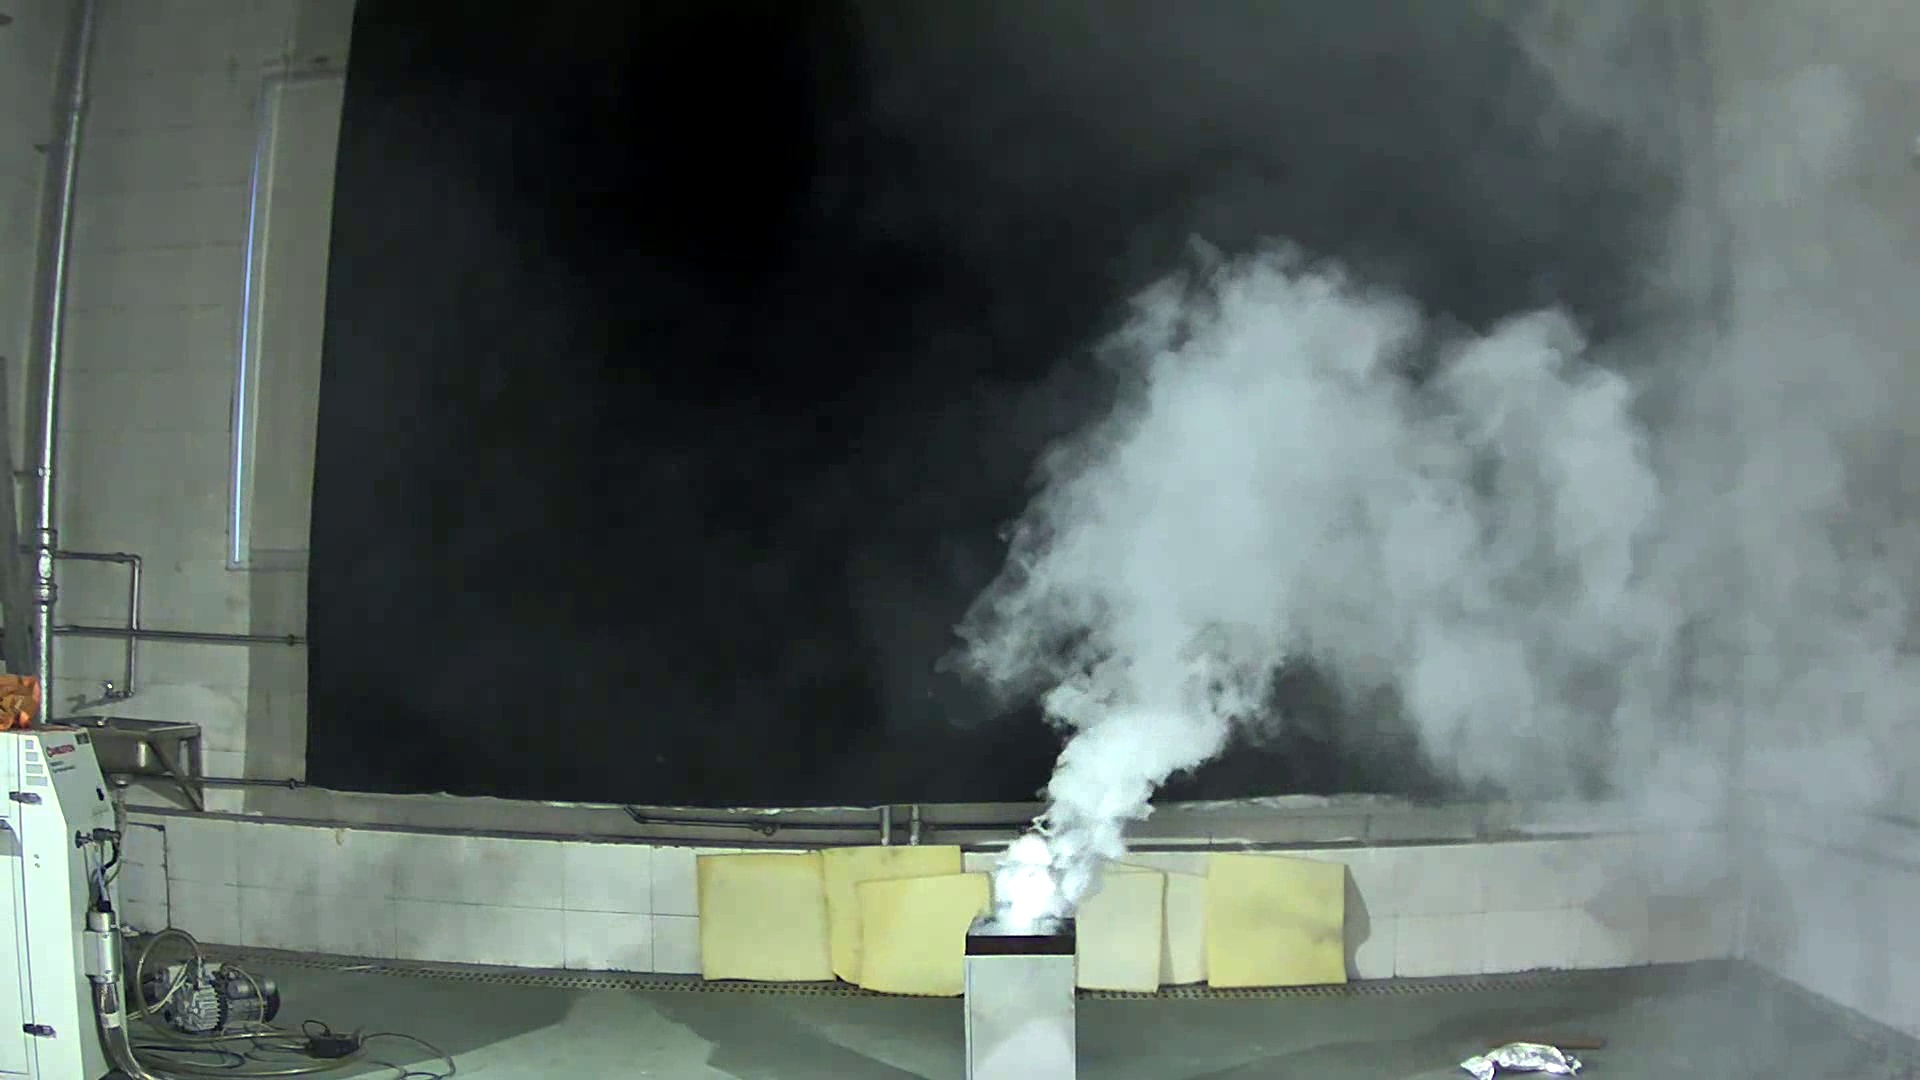smoke: (961, 156, 1920, 945)
